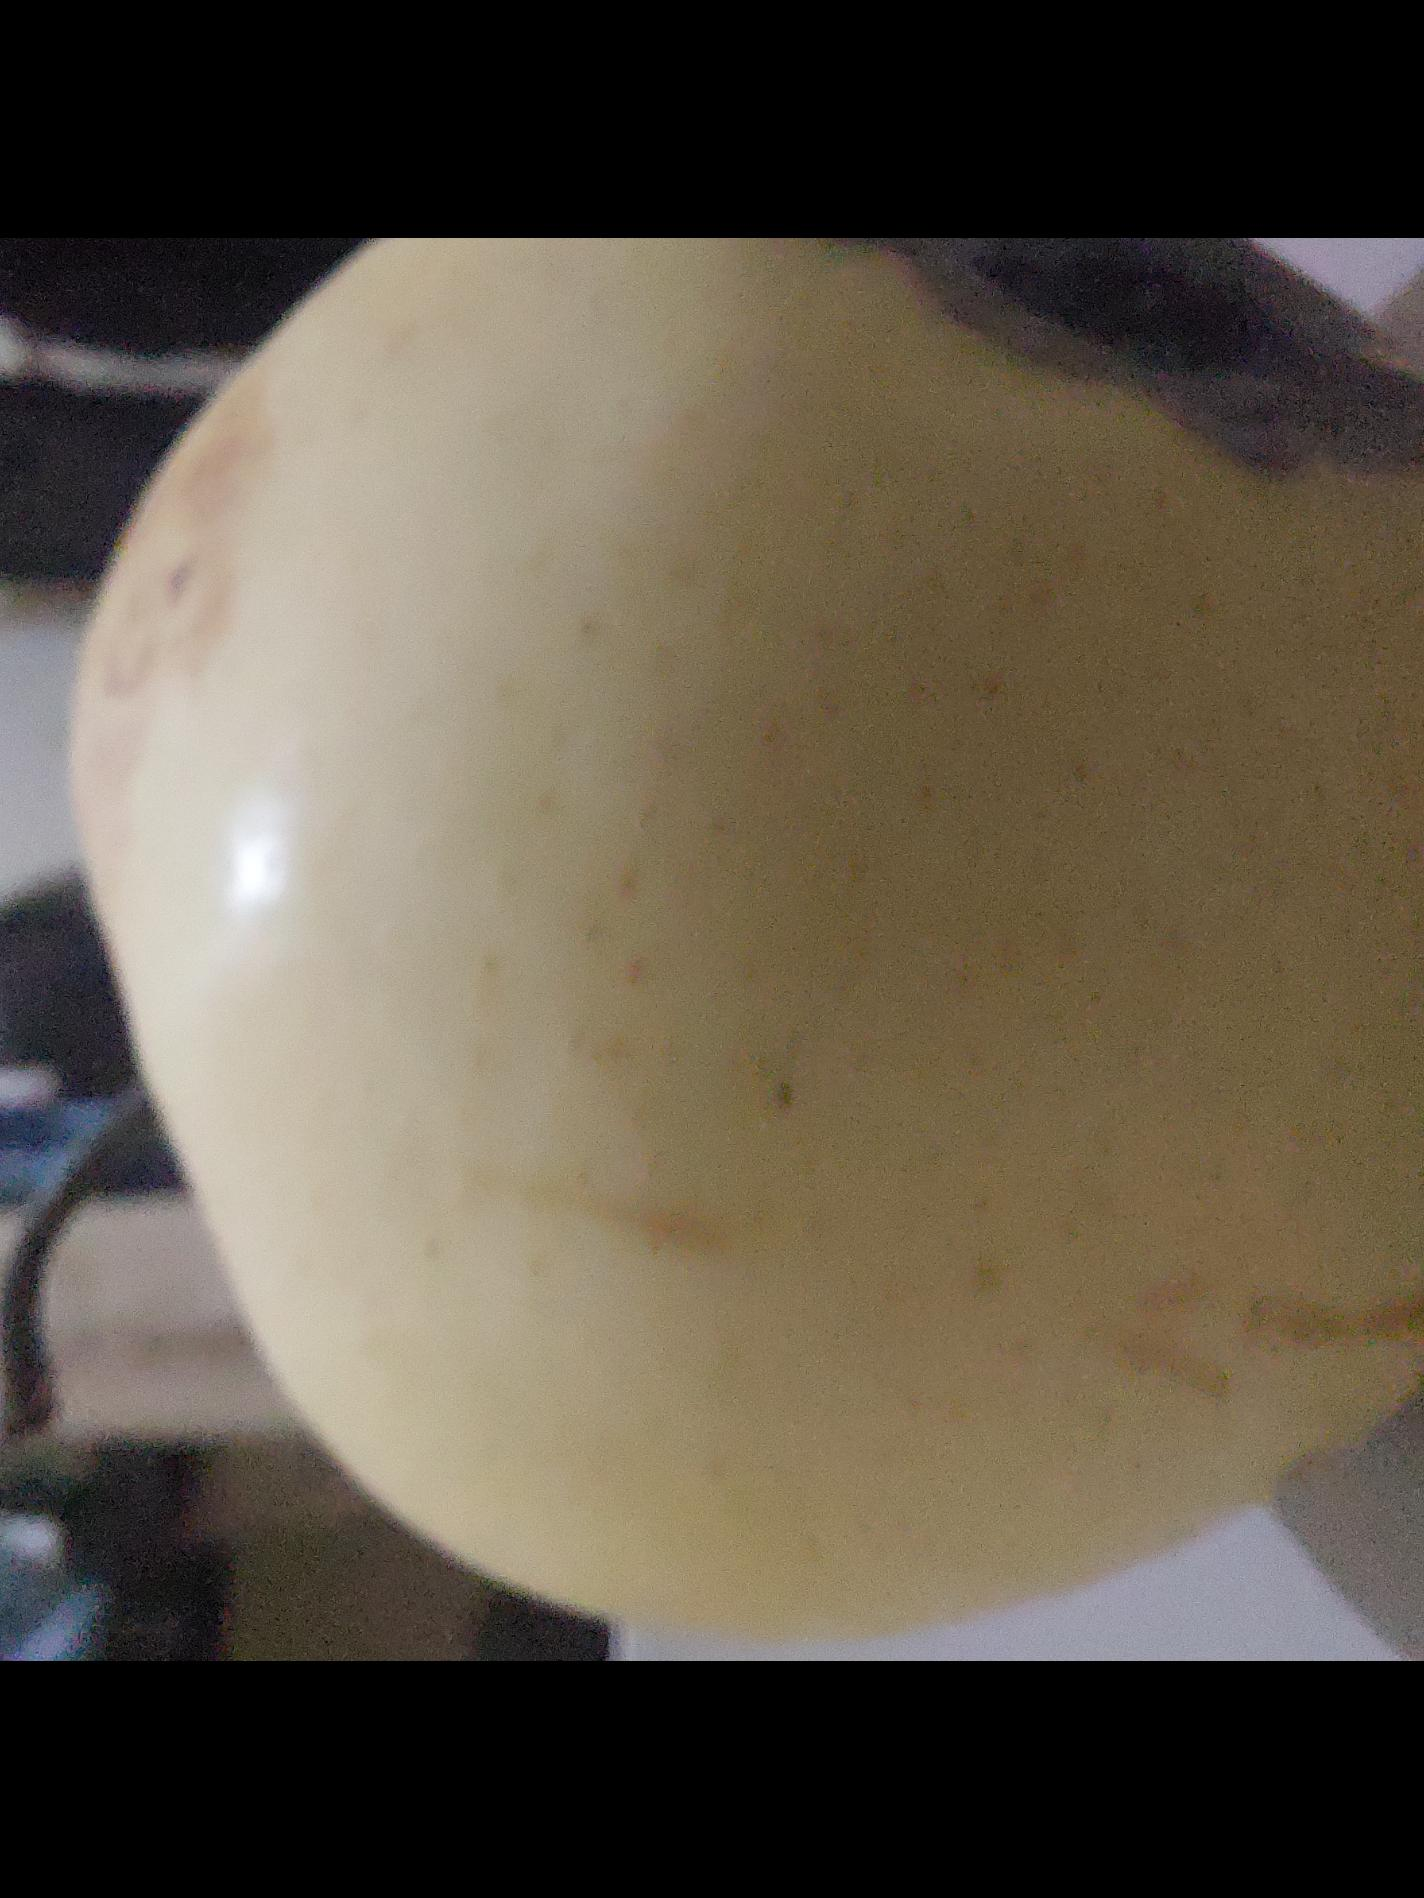Bad Pear: (64, 236, 1424, 1644)
